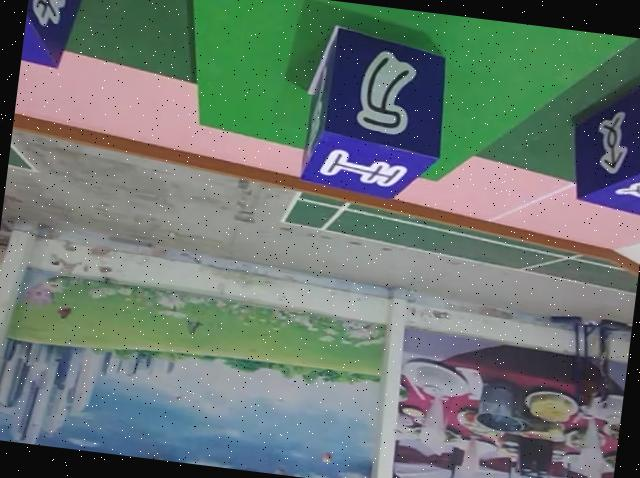R2 Fake Blue: (296, 22, 454, 204), (19, 0, 87, 68)
R2 Real Blue: (563, 66, 640, 215)
